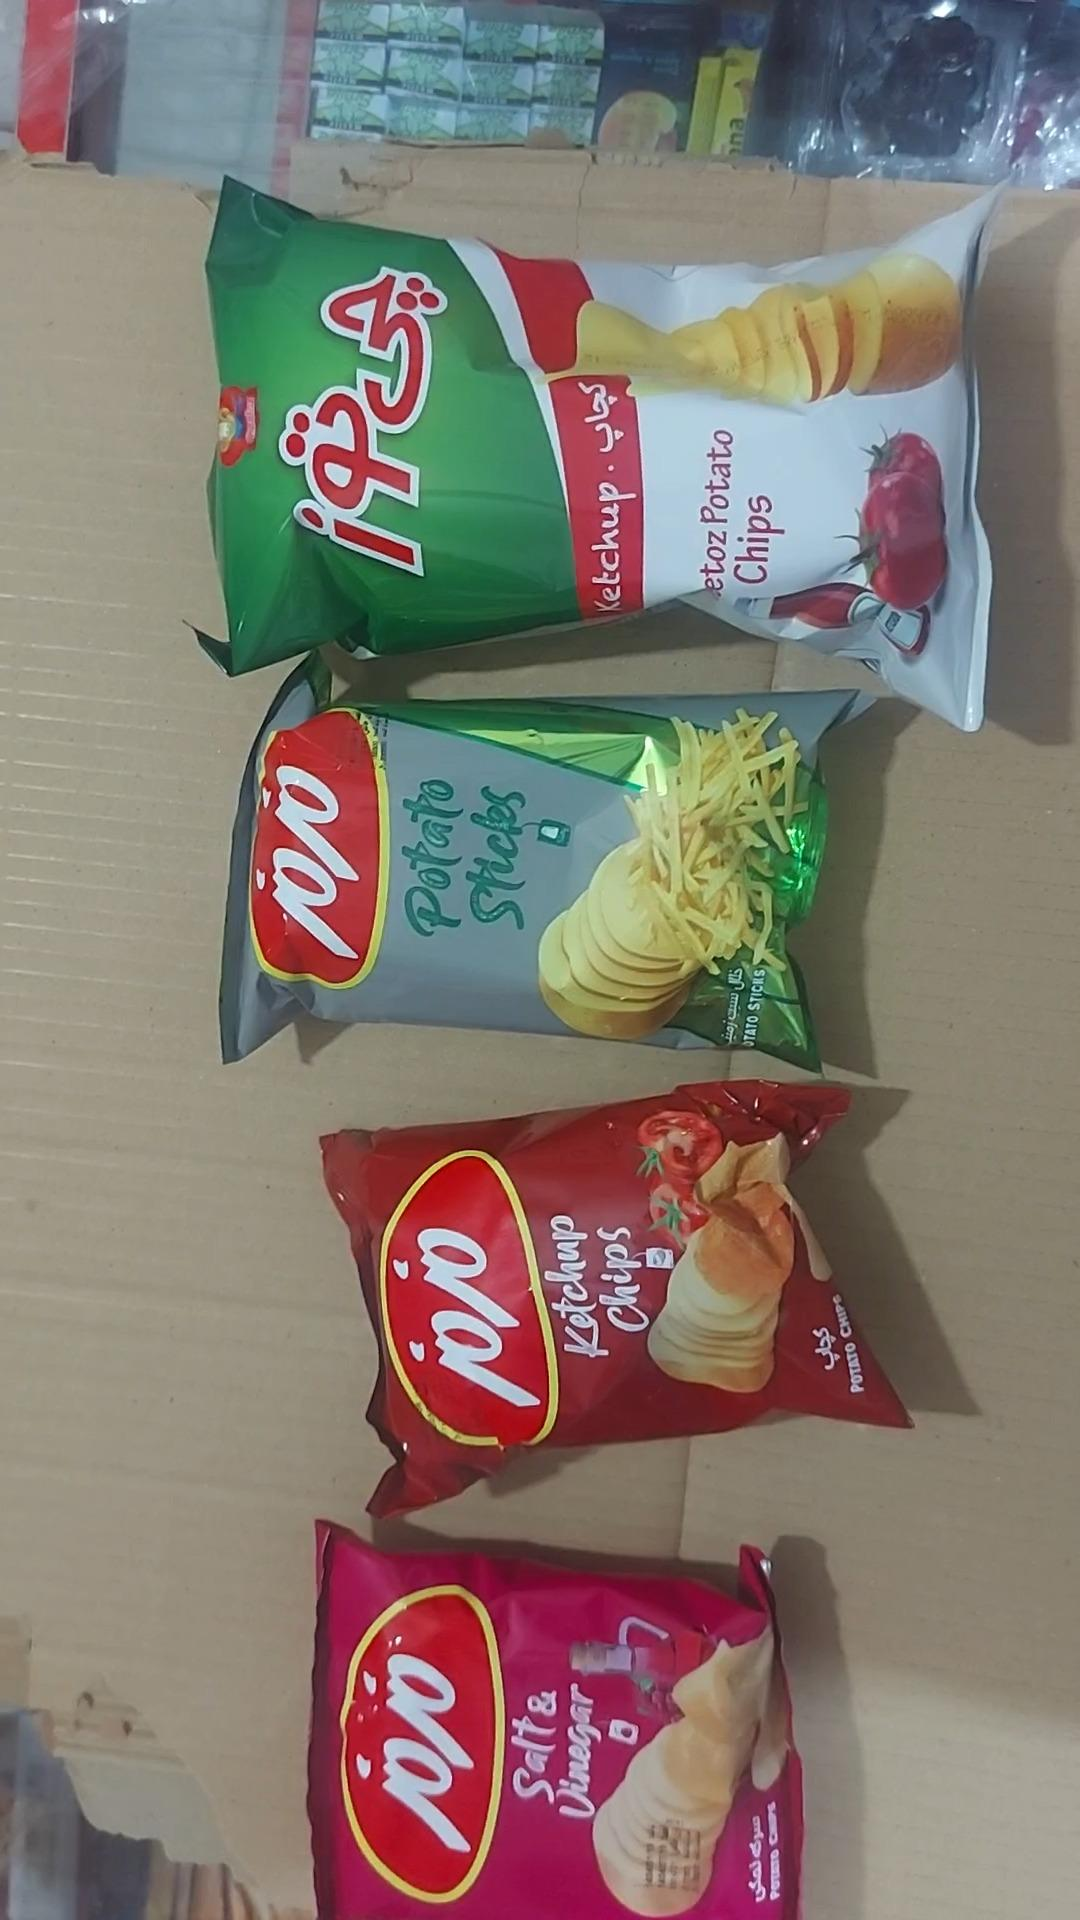Cheetoz ketchup chips: (193, 179, 1002, 735)
Maz Maz ketchup chips: (319, 1080, 916, 1520)
Maz Maz potato sticks: (220, 647, 880, 1073)
Maz Maz vinegar chips: (307, 1520, 804, 1919)
